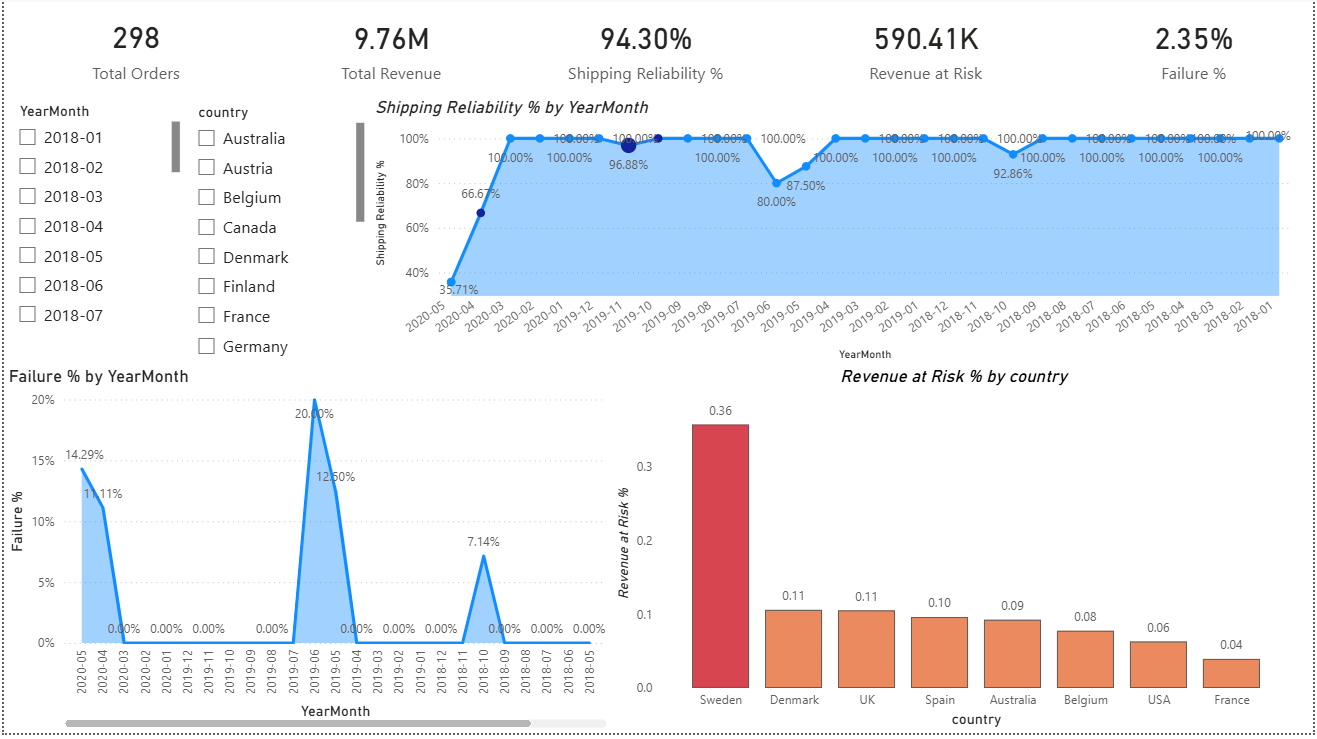

What the dashboard file says about the page in this screenshot:
{"tool":"powerbi","page":{"name":"Operations Overview","canvas":[1280,720],"ordinal":0},"visuals":[{"type":"slicer","fields":{"Values":["DimDate.YearMonth"]},"box":[2.9,98.1,174.6,235.2],"z":0},{"type":"slicer","fields":{"Values":["gold_order_ops_fact.country"]},"box":[177.5,99.6,180.3,261.1],"z":1000},{"type":"card","fields":{"Values":["_Measures.Total Orders"]},"box":[0,0,258.7,98.7],"z":2000},{"type":"card","fields":{"Values":["_Measures.Total Revenue"]},"box":[258,0,242.1,99],"z":3000},{"type":"card","fields":{"Values":["_KPI Measures.Shipping Reliability %"]},"box":[500.1,0,255.6,99],"z":4000},{"type":"card","fields":{"Values":["_KPI Measures.Failure %"]},"box":[1048,0,232.3,99],"z":5000},{"type":"card","fields":{"Values":["_KPI Measures.Revenue at Risk"]},"box":[755.7,0,292.3,99],"z":6000},{"type":"lineChart","fields":{"Category":["DimDate.YearMonth"],"Y":["_KPI Measures.Shipping Reliability %"]},"box":[357.8,98.1,906.1,262.6],"z":7000},{"type":"lineChart","fields":{"Category":["DimDate.YearMonth"],"Y":["_KPI Measures.Failure %"]},"box":[0,360.7,594.4,359.2],"z":8000},{"type":"clusteredColumnChart","fields":{"Category":["gold_order_ops_fact.country"],"Y":["_KPI Measures.Revenue at Risk %"]},"box":[594.4,360.7,669.4,359.2],"z":9000}]}

Visuals, with their boxes in screenshot pixels (x1, y1, x2, y2), scaled from the page's 1280x720 canvas onto the 1317x739 screenshot:
slicer - DimDate.YearMonth: pyautogui.locateOnScreen(3, 101, 183, 342)
slicer - gold_order_ops_fact.country: pyautogui.locateOnScreen(183, 102, 368, 370)
card - _Measures.Total Orders: pyautogui.locateOnScreen(0, 0, 266, 101)
card - _Measures.Total Revenue: pyautogui.locateOnScreen(265, 0, 515, 102)
card - _KPI Measures.Shipping Reliability %: pyautogui.locateOnScreen(515, 0, 778, 102)
card - _KPI Measures.Failure %: pyautogui.locateOnScreen(1078, 0, 1316, 102)
card - _KPI Measures.Revenue at Risk: pyautogui.locateOnScreen(778, 0, 1078, 102)
lineChart - DimDate.YearMonth x _KPI Measures.Shipping Reliability %: pyautogui.locateOnScreen(368, 101, 1300, 370)
lineChart - DimDate.YearMonth x _KPI Measures.Failure %: pyautogui.locateOnScreen(0, 370, 612, 738)
clusteredColumnChart - gold_order_ops_fact.country x _KPI Measures.Revenue at Risk %: pyautogui.locateOnScreen(612, 370, 1300, 738)
